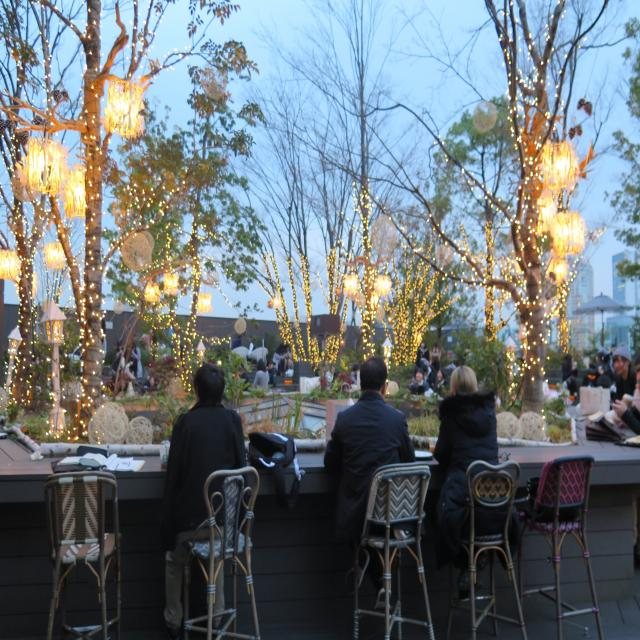body: (159, 362, 246, 634), (324, 356, 416, 613), (429, 364, 498, 603), (76, 311, 110, 388), (609, 366, 640, 439), (609, 341, 638, 411), (316, 354, 360, 393), (114, 338, 133, 406), (582, 351, 608, 398), (561, 353, 580, 401), (128, 342, 143, 395), (596, 344, 615, 383), (416, 339, 432, 376), (409, 368, 429, 395), (433, 369, 450, 399), (253, 359, 269, 389), (273, 341, 286, 376), (235, 357, 248, 389), (430, 342, 442, 375), (266, 357, 278, 389), (283, 343, 294, 376), (29, 355, 41, 373)
